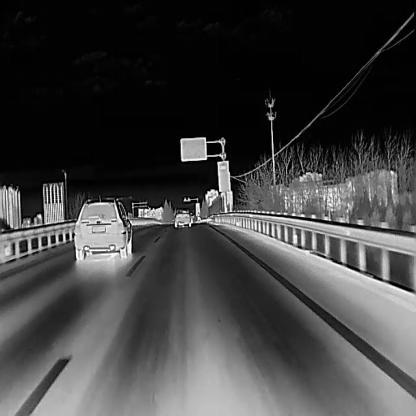car: (73, 197, 131, 259), (172, 209, 192, 227)
